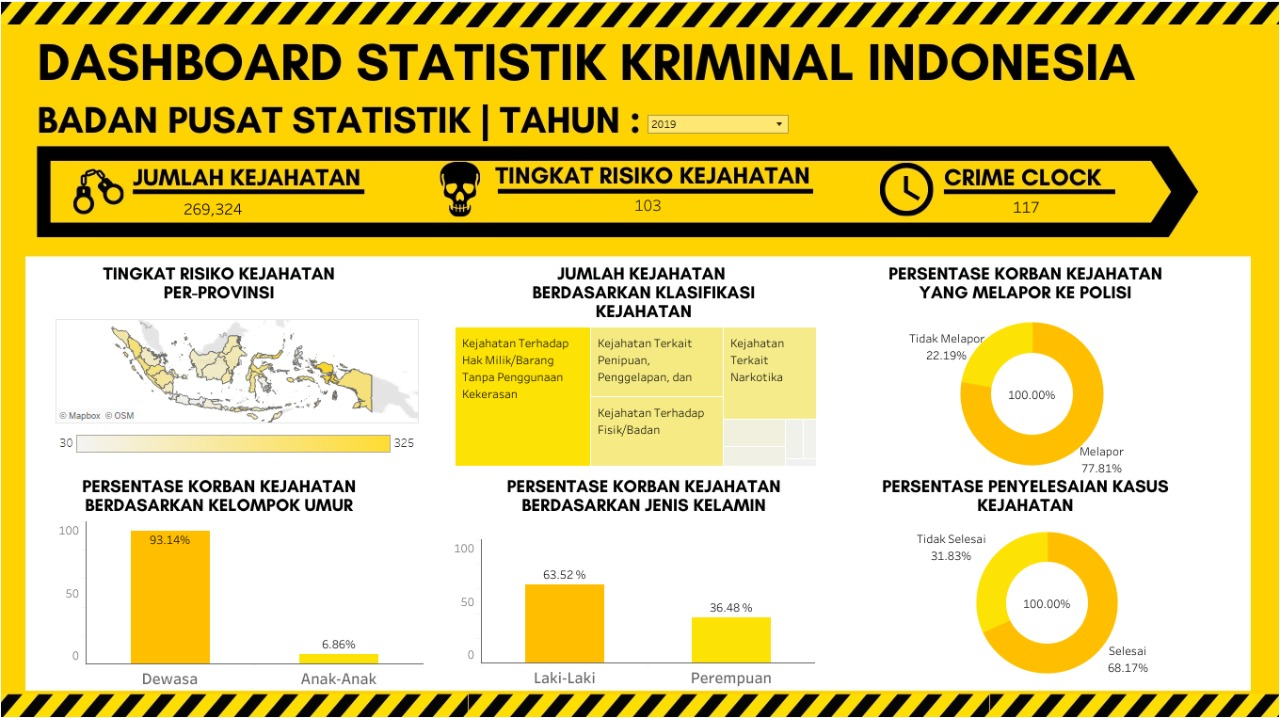

The dashboard page shown, as its layout file describes it:
{"tool":"tableau","page":{"name":"Dashboard Jadi","canvas":[1366,768],"ordinal":0},"visuals":[{"type":"image","param":"C:/Users/Billy Aufa/Downloads/Dashboard Billy (1).png","box":[0,0,1366,768]},{"type":"filter","title":"N4_2015","param":"[federated.0p8o0gs05xhava152f0cx1nohm7l].[yr:tahun:ok]","box":[686,120,160,39]},{"type":"worksheet","title":"N2_2015","mark":"Automatic","box":[646,204,184,36]},{"type":"worksheet","title":"N1_2015","mark":"Automatic","box":[181,205,211,37]},{"type":"worksheet","title":"N3_2015","mark":"Automatic","box":[1048,206,184,36]},{"type":"worksheet","title":"N8_2015","mark":"Pie","rows":["Calculation_1853512761082097664","Calculation_1853512761082097664"],"box":[899,328,401,185]},{"type":"worksheet","title":"N4_2015","mark":"Automatic","box":[58,337,394,117]},{"type":"worksheet","title":"N5_2015","mark":"Automatic","box":[478,341,400,164]},{"type":"legend","title":"N4_2015","param":"[federated.1ix8op90sjwu8i1gfceq801b43e7].[sum:tingkat_risiko_kejahatan:qk]","box":[58,454,394,51]},{"type":"worksheet","title":"N9_2015","mark":"Pie","rows":["Calculation_1754996520436551683","Calculation_1754996520436551683"],"box":[920,549,391,187]},{"type":"worksheet","title":"N7_2015","mark":"Bar","rows":["persentase"],"cols":["kelompok_umur"],"box":[60,552,397,184]},{"type":"worksheet","title":"N6_2015","mark":"Bar","rows":["persentase"],"cols":["jenis_kelamin"],"box":[480,571,393,165]}]}

Visuals, with their boxes in screenshot pixels (x1, y1, x2, y2), scaled from the page's 1366x768 canvas onto the 1280x718 screenshot:
image: pyautogui.locateOnScreen(0, 0, 1279, 717)
"N4_2015" filter: pyautogui.locateOnScreen(643, 112, 793, 149)
"N2_2015" worksheet: pyautogui.locateOnScreen(605, 191, 778, 224)
"N1_2015" worksheet: pyautogui.locateOnScreen(170, 192, 367, 226)
"N3_2015" worksheet: pyautogui.locateOnScreen(982, 193, 1154, 226)
"N8_2015" worksheet (Pie marks): pyautogui.locateOnScreen(842, 307, 1218, 480)
"N4_2015" worksheet: pyautogui.locateOnScreen(54, 315, 424, 424)
"N5_2015" worksheet: pyautogui.locateOnScreen(448, 319, 823, 472)
"N4_2015" legend: pyautogui.locateOnScreen(54, 424, 424, 472)
"N9_2015" worksheet (Pie marks): pyautogui.locateOnScreen(862, 513, 1228, 688)
"N7_2015" worksheet (Bar marks): pyautogui.locateOnScreen(56, 516, 428, 688)
"N6_2015" worksheet (Bar marks): pyautogui.locateOnScreen(450, 534, 818, 688)
